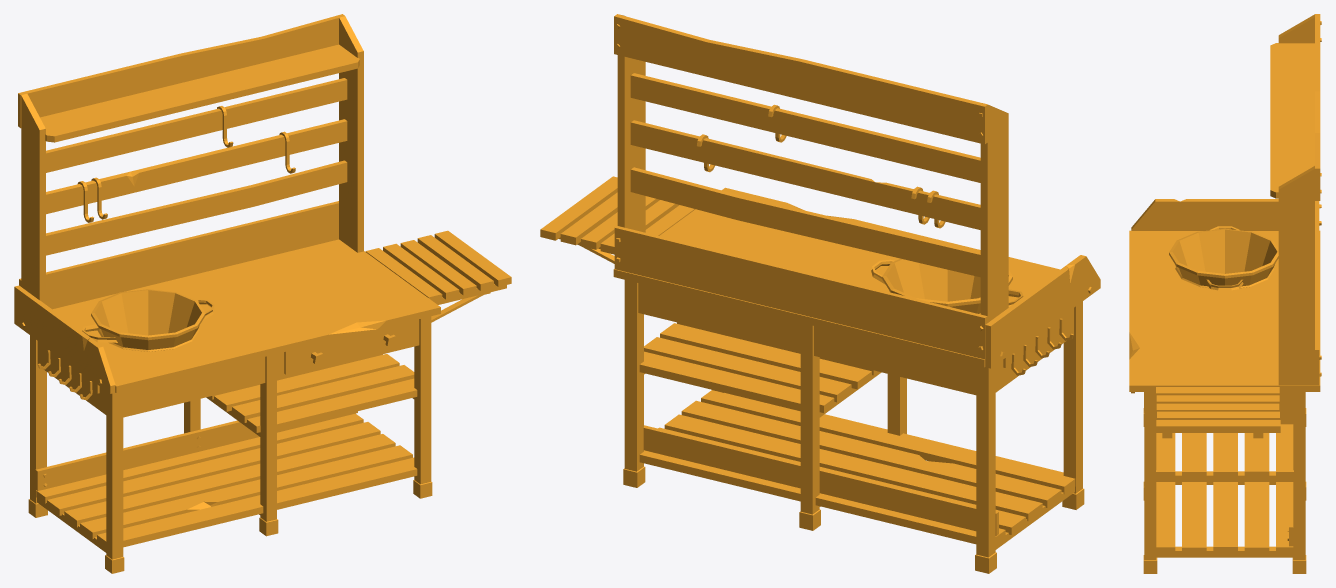
The model's file is SM_Table_Potting_A.fbx.
3 views of the same model, side by side, from view 1: azimuth 30°, elevation 25°; view 2: azimuth 150°, elevation 25°; view 3: azimuth 270°, elevation 25° (orthographic). The views are drawn at different scales.
Visible parts, largest first — view 1: table-potting-a-base, table-potting-a-wash-tub, table-potting-a-drawer; view 2: table-potting-a-base, table-potting-a-wash-tub; view 3: table-potting-a-base, table-potting-a-wash-tub.
Part boxes in pixels (x1=…): table-potting-a-base: x1=14, y1=14, x2=511, y2=573; table-potting-a-wash-tub: x1=82, y1=289, x2=215, y2=351; table-potting-a-drawer: x1=284, y1=321, x2=412, y2=374; table-potting-a-base: x1=540, y1=14, x2=1100, y2=573; table-potting-a-wash-tub: x1=871, y1=258, x2=1023, y2=314; table-potting-a-base: x1=1129, y1=14, x2=1321, y2=573; table-potting-a-wash-tub: x1=1169, y1=226, x2=1278, y2=290.
Size of the model in its own units: 1.97 by 1.87 by 0.8047.
